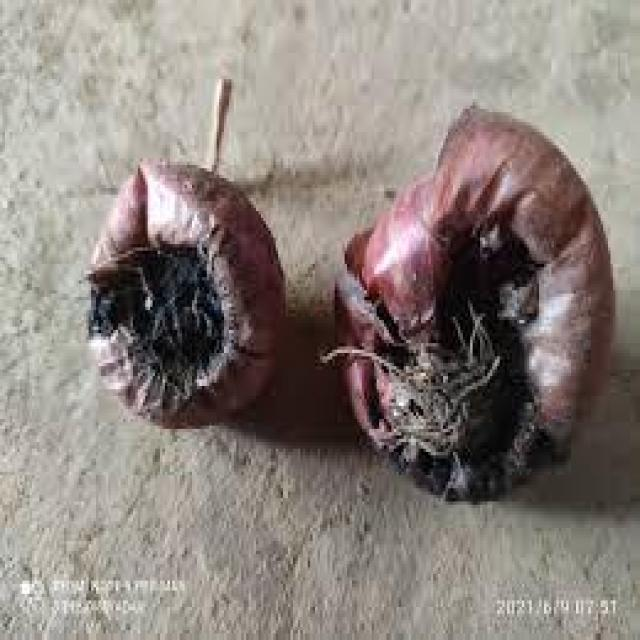Onion: (325, 92, 620, 512), (79, 122, 288, 462)
